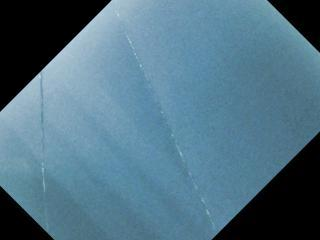crack: (109, 0, 221, 236), (34, 70, 53, 233)
